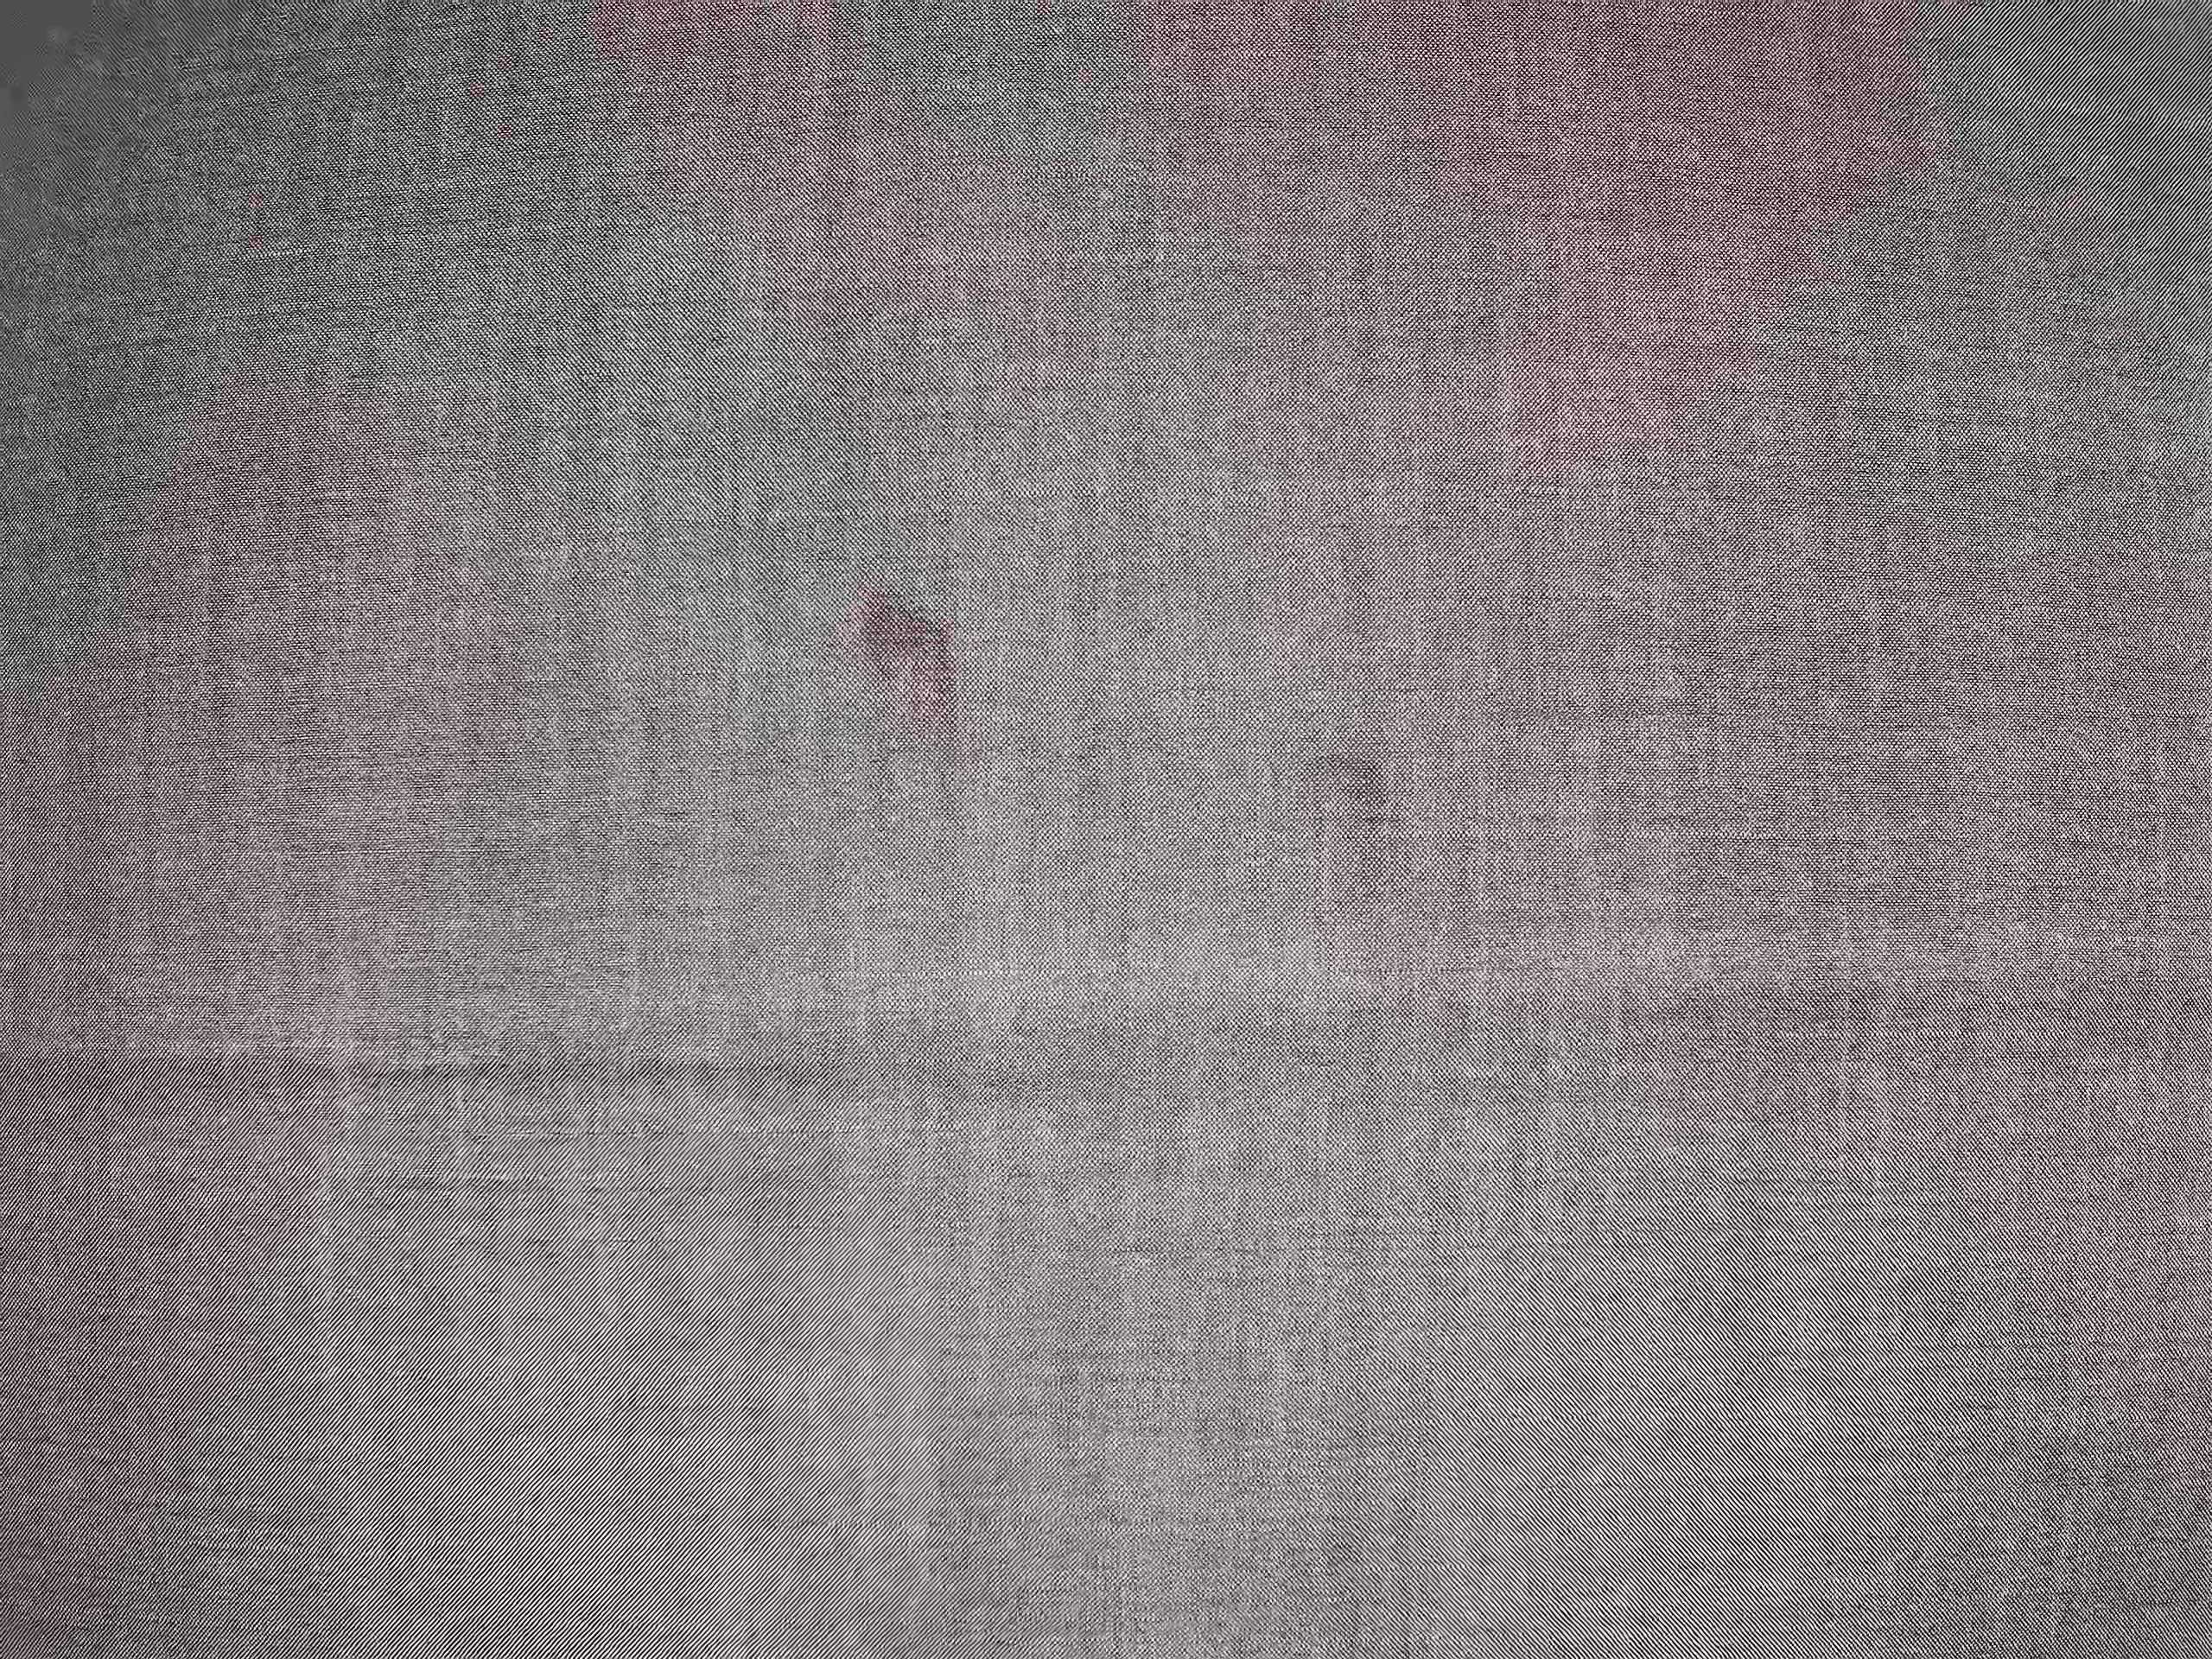others: (841, 565, 988, 781), (1303, 723, 1418, 873)
